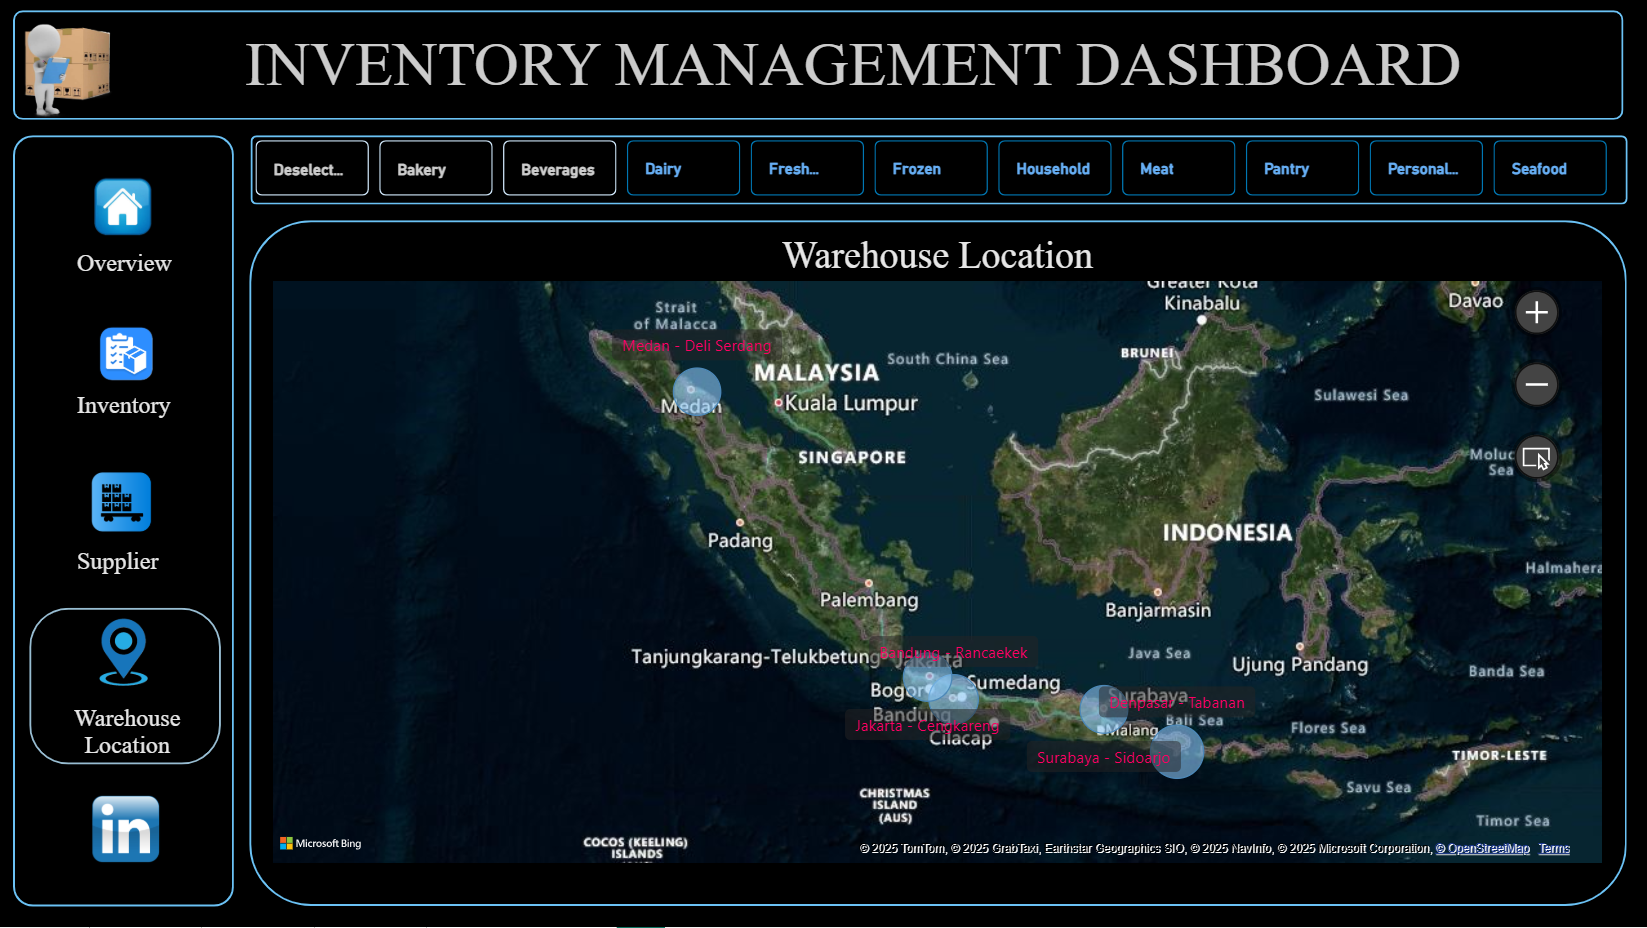

The dashboard page shown, as its layout file describes it:
{"tool":"powerbi","page":{"name":"Warehouse Location","canvas":[1280,720],"ordinal":3},"visuals":[{"type":"shape","box":[12,105.5,171.4,598.1],"z":0},{"type":"shape","box":[12,8.4,1248.8,85.1],"z":1000},{"type":"shape","box":[195,171.7,1068.3,531.7],"z":2000},{"type":"textbox","box":[99.8,18.4,1126.3,87.2],"z":3000},{"type":"shape","box":[195.4,105.5,1067.9,53.9],"z":4000},{"type":"advancedSlicerVisual","fields":{"Values":["Inventory.Category"]},"box":[195,105,1068.3,53.3],"z":5000},{"type":"image","box":[37.4,221.4,123.7,108.1],"z":6000},{"type":"image","box":[64.4,129.9,65.5,59.2],"z":7000},{"type":"textbox","box":[56.1,189.1,96.7,45.7],"z":8000},{"type":"textbox","box":[56.1,299.3,107,42.6],"z":9000},{"type":"image","box":[62.4,359.6,67.6,61.3],"z":10000},{"type":"textbox","box":[56.3,420.7,97.1,38.4],"z":11000},{"type":"image","box":[10.8,8.4,88.7,97.1],"z":12000},{"type":"map","title":"Warehouse Location","fields":{"Category":["Inventory.Warehouse Location"],"Size":["Sum(Inventory.Quantity On Hand)"]},"box":[208.3,181.7,1040,493.3],"z":13000},{"type":"shape","box":[23.9,471.8,148.6,121.6],"z":13500},{"type":"image","box":[53.3,458.3,88.3,96.7],"z":14000},{"type":"textbox","box":[36.7,541.7,126.7,70],"z":15000},{"type":"image","box":[47.9,593.3,103.1,100.7],"z":16000}]}

Visuals, with their boxes on the page's 1280x720 design canvas (x1, y1, x2, y2). These are canvas units, not pixel positions in the 1647x928 screenshot, which may show the page scaled, cropped or inside an application window:
shape: locate(12, 106, 183, 704)
shape: locate(12, 8, 1261, 94)
shape: locate(195, 172, 1263, 703)
textbox: locate(100, 18, 1226, 106)
shape: locate(195, 106, 1263, 159)
advancedSlicerVisual - Inventory.Category: locate(195, 105, 1263, 158)
image: locate(37, 221, 161, 330)
image: locate(64, 130, 130, 189)
textbox: locate(56, 189, 153, 235)
textbox: locate(56, 299, 163, 342)
image: locate(62, 360, 130, 421)
textbox: locate(56, 421, 153, 459)
image: locate(11, 8, 100, 106)
"Warehouse Location" map: locate(208, 182, 1248, 675)
shape: locate(24, 472, 172, 593)
image: locate(53, 458, 142, 555)
textbox: locate(37, 542, 163, 612)
image: locate(48, 593, 151, 694)
